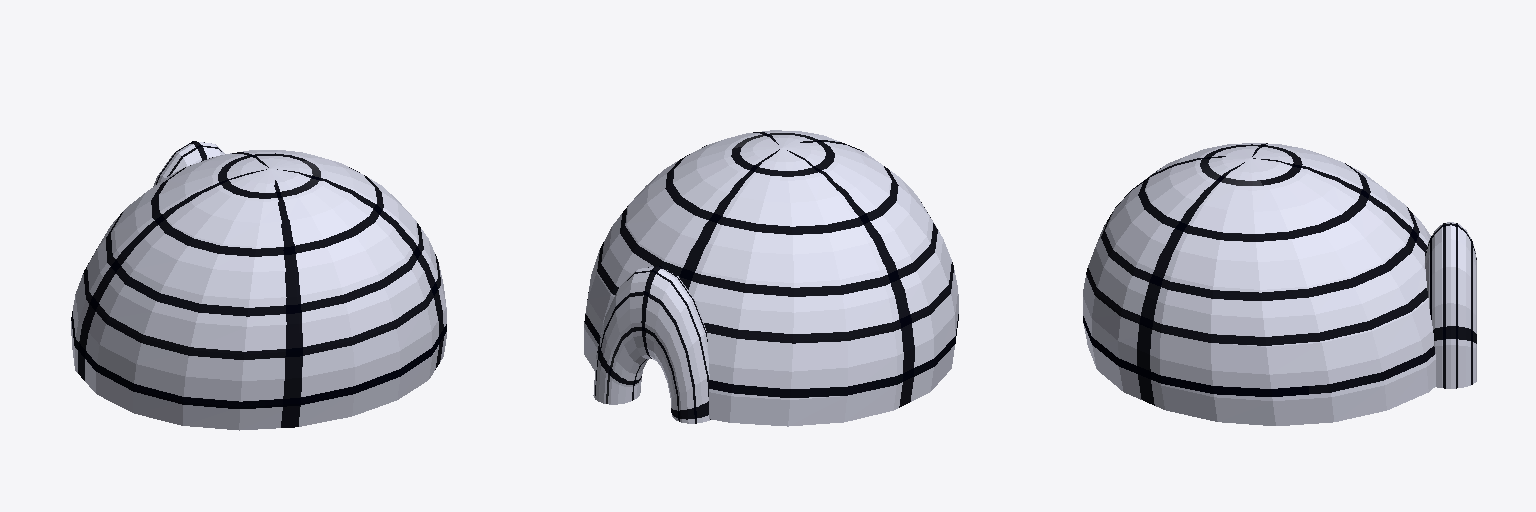
3 views of the same model, side by side, from view 1: azimuth 30°, elevation 25°; view 2: azimuth 150°, elevation 25°; view 3: azimuth 270°, elevation 25° (orthographic).
Parts seen in each view (by area): view 1: pTorus2; view 2: pTorus2; view 3: pTorus2.
Part boxes in pixels (x1,y1,x2,y2): pTorus2: (71,141,446,430); pTorus2: (584,130,958,426); pTorus2: (1083,143,1476,425).
Bounding box in the file's own units: 2 × 1.15 × 2.1.
2 materials, 1 textured.